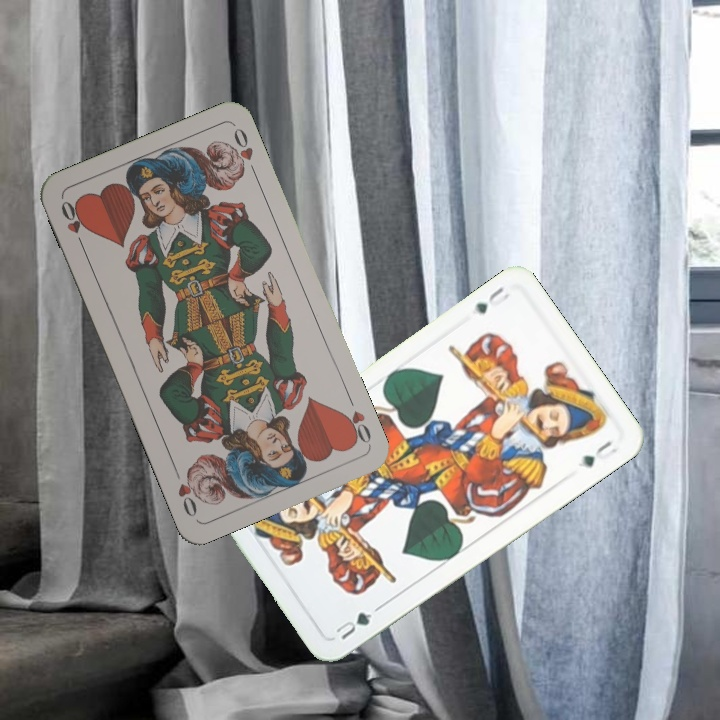GU: (331, 603, 383, 643), (469, 282, 512, 317)
HO: (338, 391, 374, 448), (56, 196, 89, 252)
